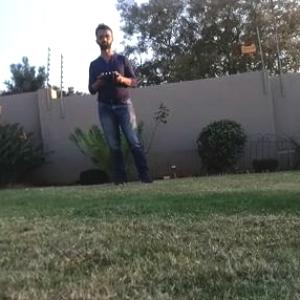follow: (86, 15, 158, 188)
